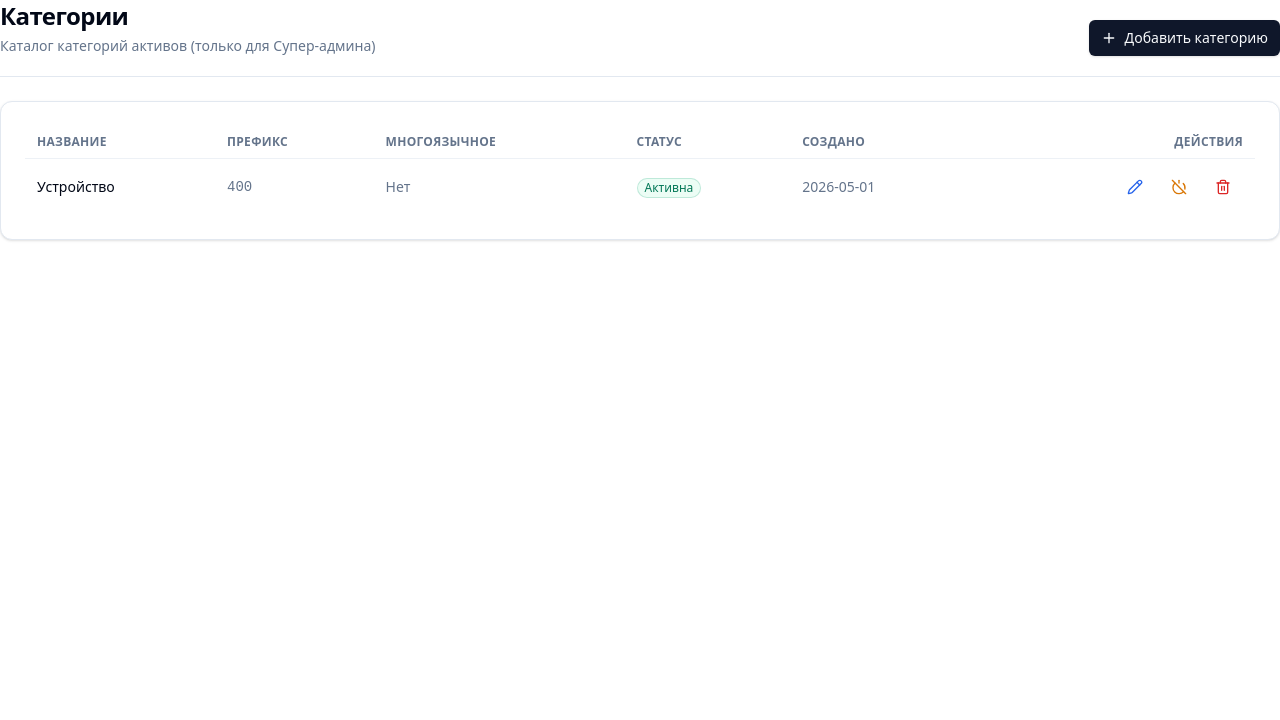
Scenario: CategoriesManagementPage › shows the referenced-by-other-records error when delete is blocked
Click the button named "Удалить".
click(1223, 187)  # box [1203,167,1243,207]
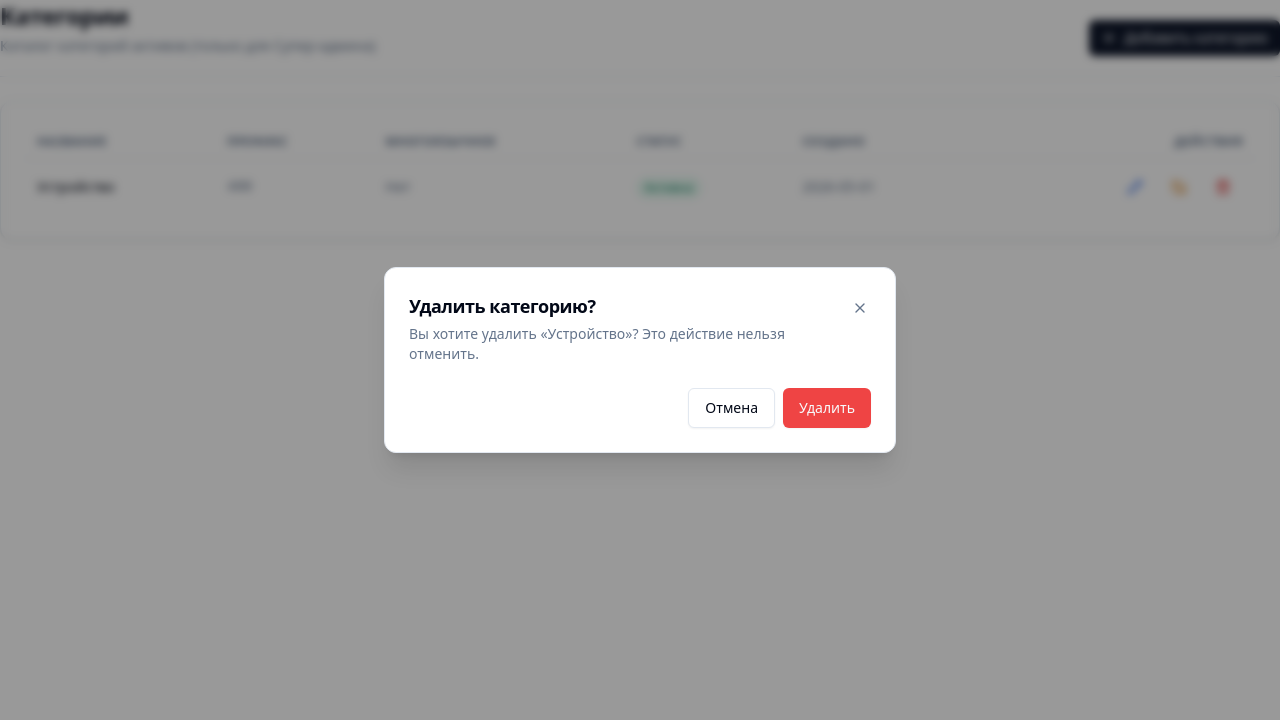
Click the button "Удалить".
click(827, 408)  # box [783,388,871,428]
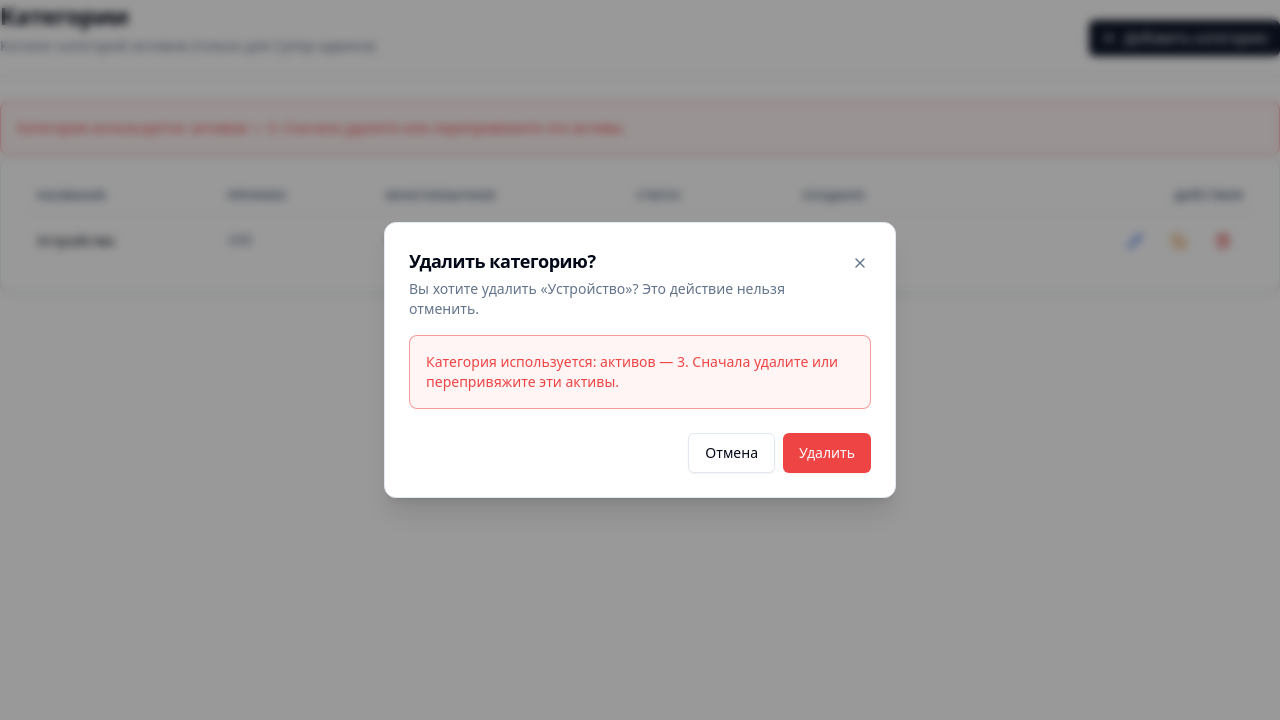
Check: the heading "Удалить категорию?" is shown, box [409,249,596,273]
Check: the message shows "3", box [426,352,838,391]
